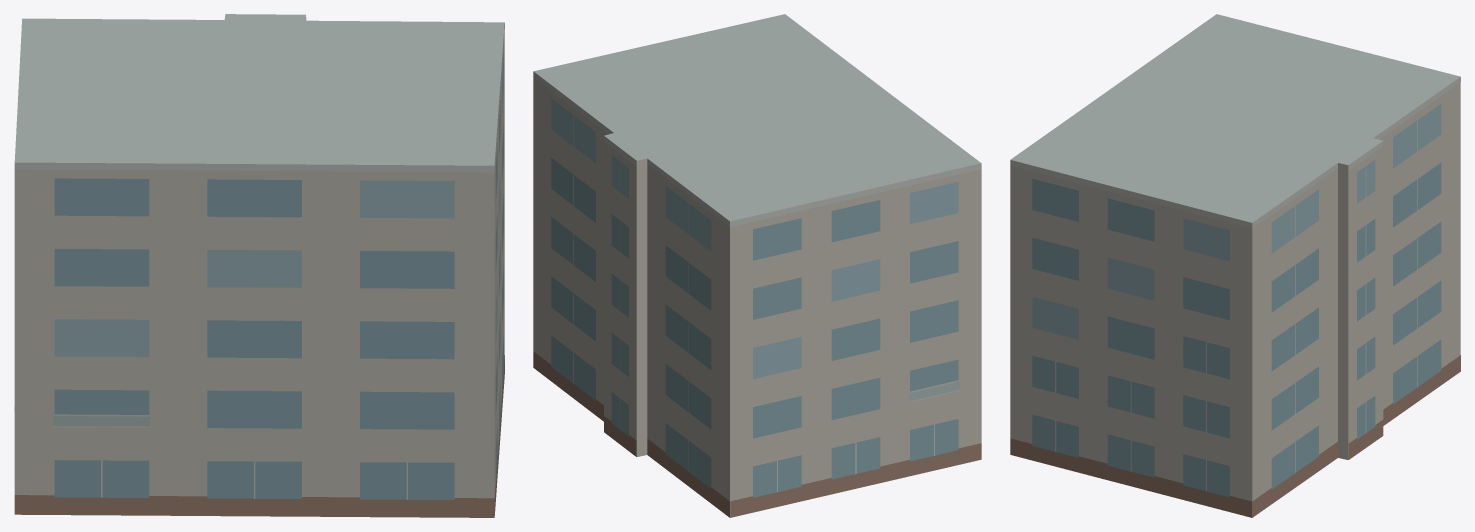
The model's file is survey-upis-32924139.glb.
3 views of the same model, side by side, from view 1: azimuth 30°, elevation 25°; view 2: azimuth 150°, elevation 25°; view 3: azimuth 270°, elevation 25° (orthographic). The views are drawn at different scales.
Visible parts, largest first — view 1: survey-upis-32924139.tmp; view 2: survey-upis-32924139.tmp; view 3: survey-upis-32924139.tmp.
Part boxes in pixels (x1,y1,x2,y2): survey-upis-32924139.tmp: (14, 14, 504, 517); survey-upis-32924139.tmp: (533, 14, 981, 517); survey-upis-32924139.tmp: (1010, 14, 1460, 517).
Bounding box in the file's own units: 19.07 × 12.55 × 17.38.
